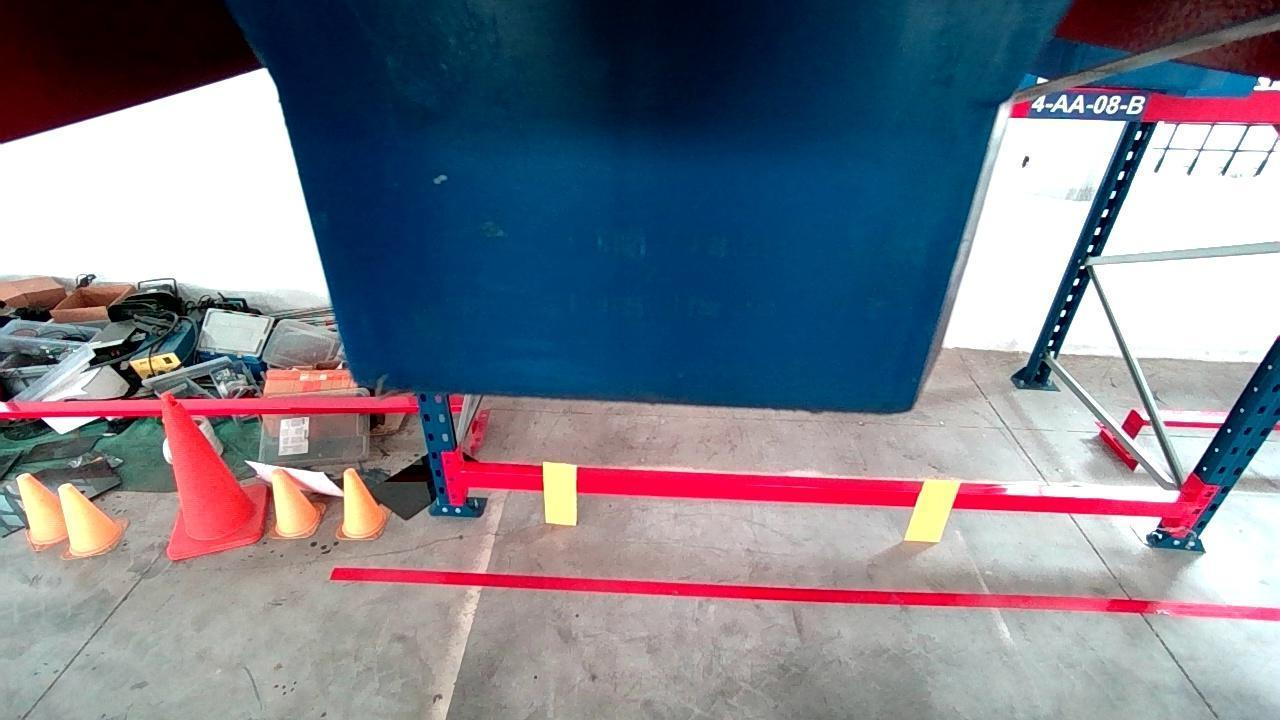h_rack: (459, 461, 1184, 516), (1015, 86, 1280, 119)
orange_strip: (907, 481, 959, 542), (541, 460, 575, 528)
red_line: (329, 566, 1280, 623)
